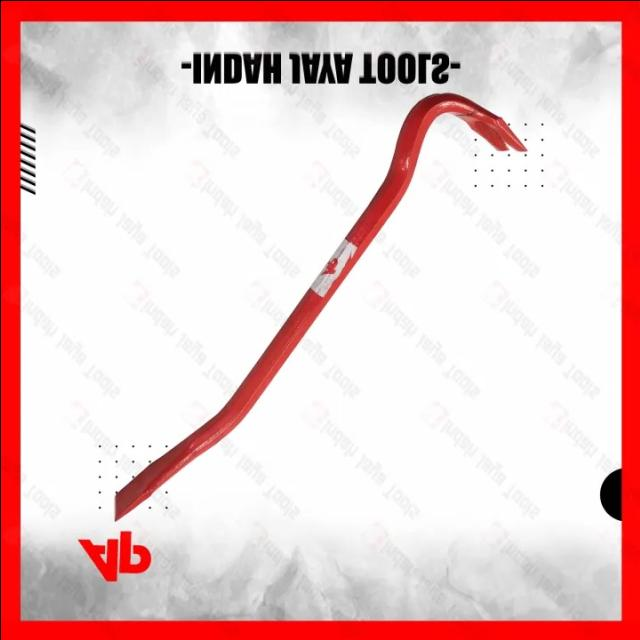Linggis: (116, 90, 526, 520)
